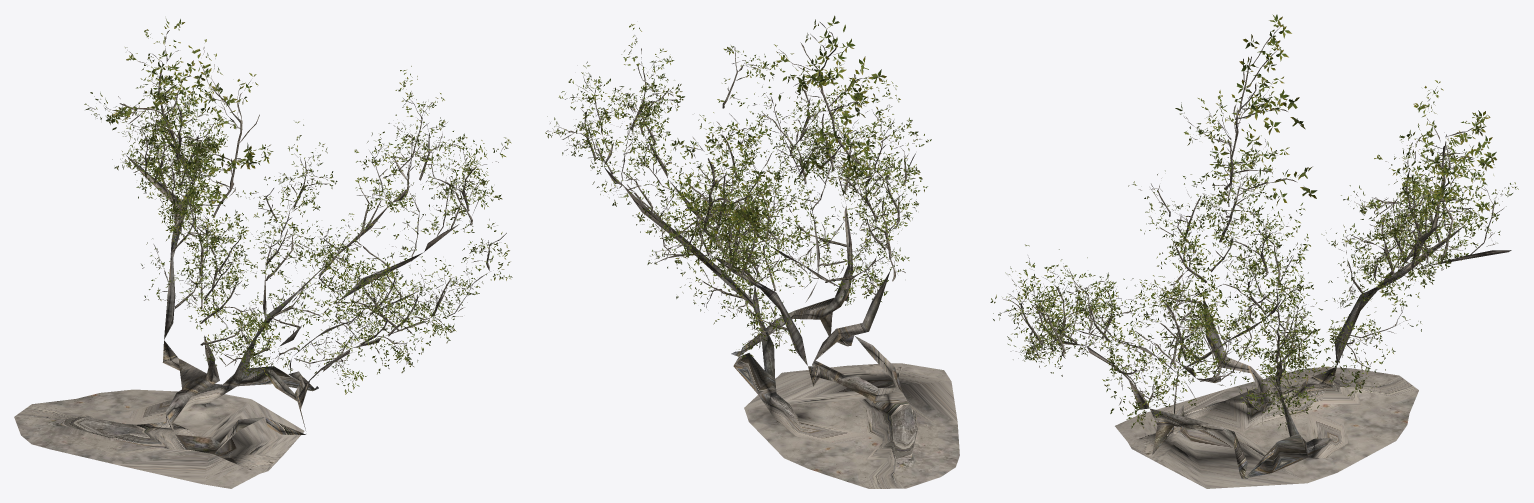
File: island_tree_03_lod.glb
3 views of the same model, side by side, from view 1: azimuth 30°, elevation 25°; view 2: azimuth 150°, elevation 25°; view 3: azimuth 270°, elevation 25° (orthographic). The views are drawn at different scales.
Size of the model in its own units: 2.96 by 2.61 by 2.91.
3 materials, 3 textured.
